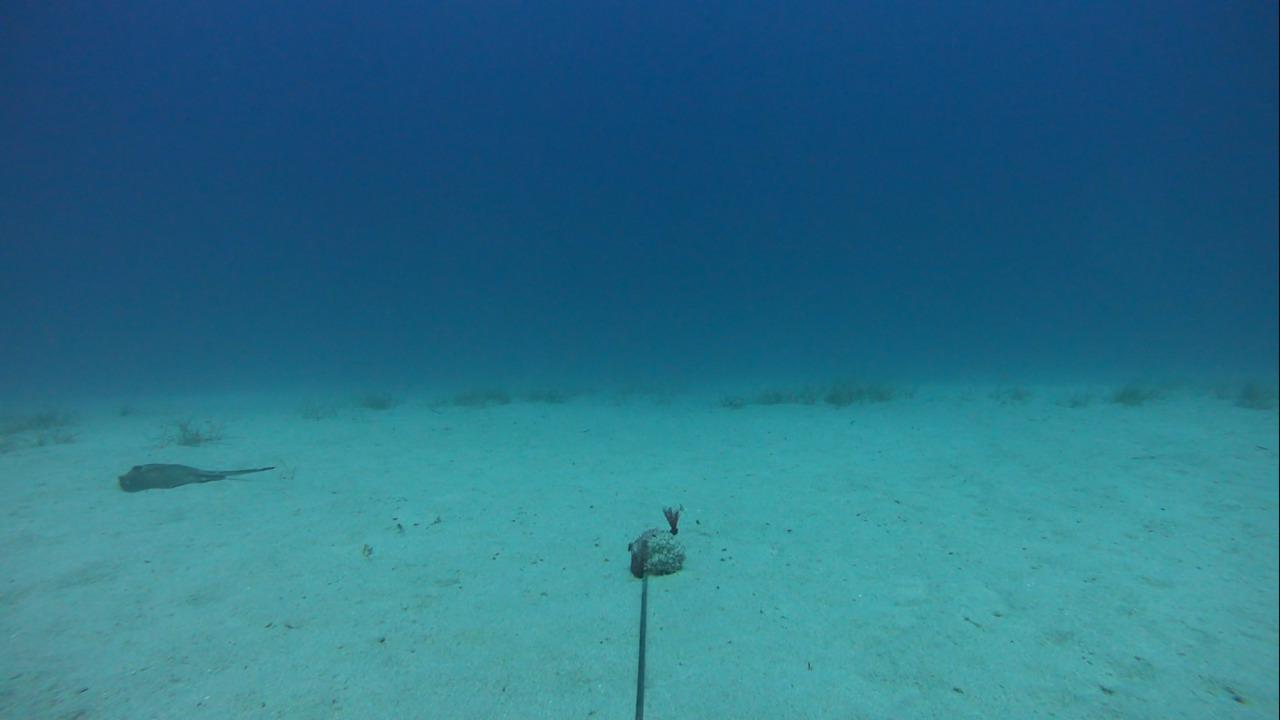myliobatis: (108, 458, 277, 497)
